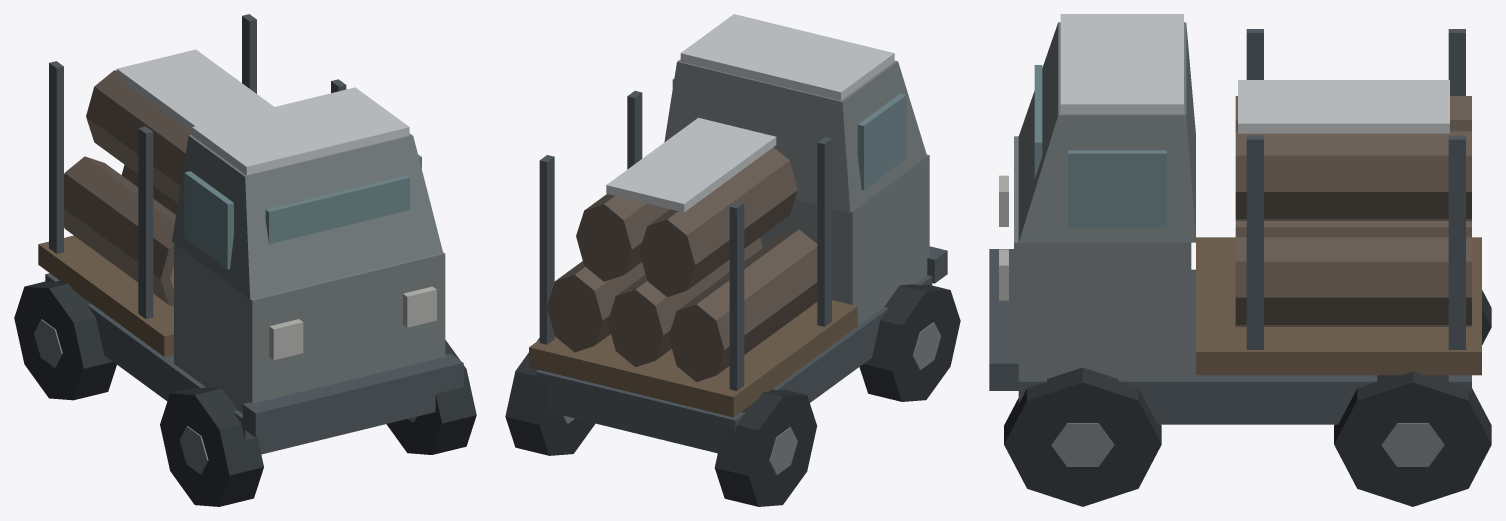
File: log_truck.glb
3 views of the same model, side by side, from view 1: azimuth 30°, elevation 25°; view 2: azimuth 150°, elevation 25°; view 3: azimuth 270°, elevation 25° (orthographic). The views are drawn at different scales.
Visible parts, largest first — view 1: log_truck; view 2: log_truck; view 3: log_truck.
Boxes of the visible parts, <box> form: log_truck: <box>14,14,476,506</box>; log_truck: <box>505,14,960,506</box>; log_truck: <box>989,14,1491,506</box>.
Size of the model in its own units: 1.87 by 2.4 by 2.88.
